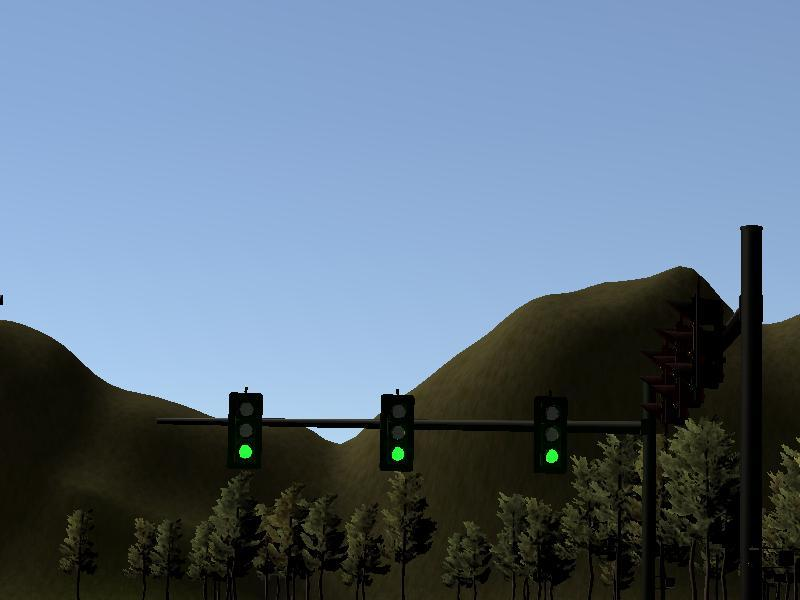Green: (379, 394, 413, 471), (229, 393, 262, 469), (534, 397, 566, 473)
